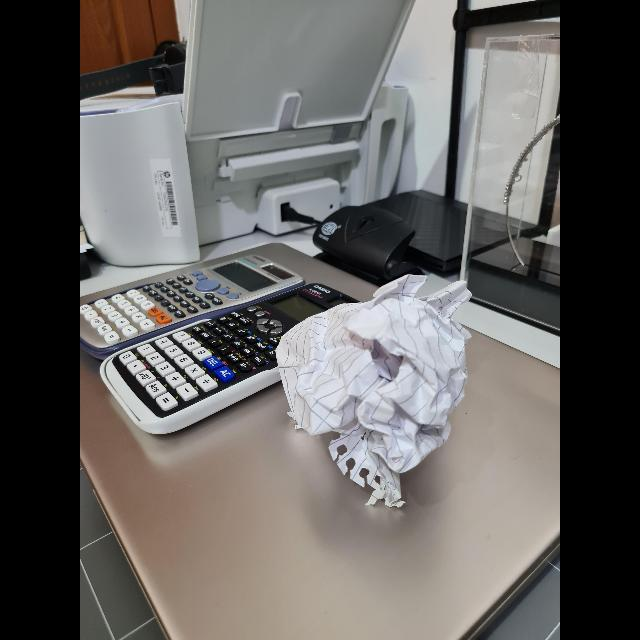scrap_paper: (276, 267, 476, 508)
